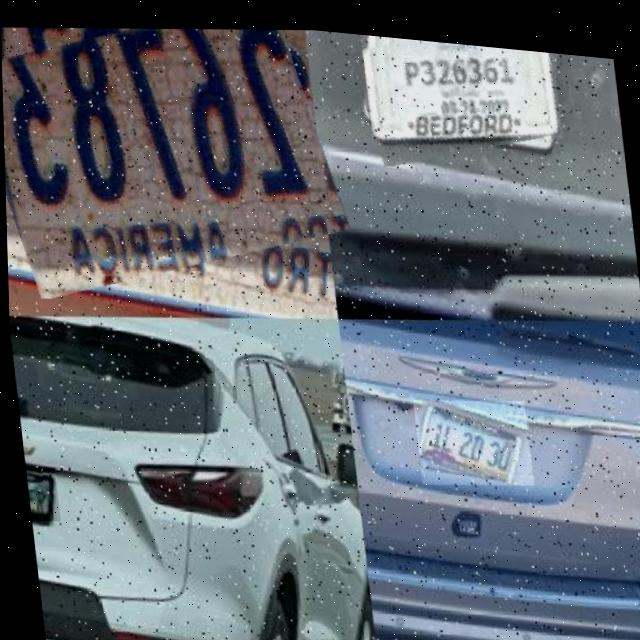LicensePlate: (0, 0, 345, 307), (363, 31, 562, 129), (417, 392, 525, 475), (22, 468, 52, 520)
